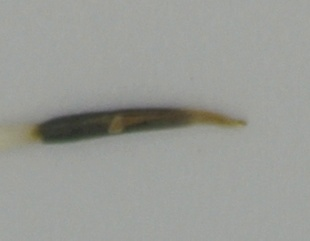เมล็ดงอกแตก: (27, 106, 249, 146)
